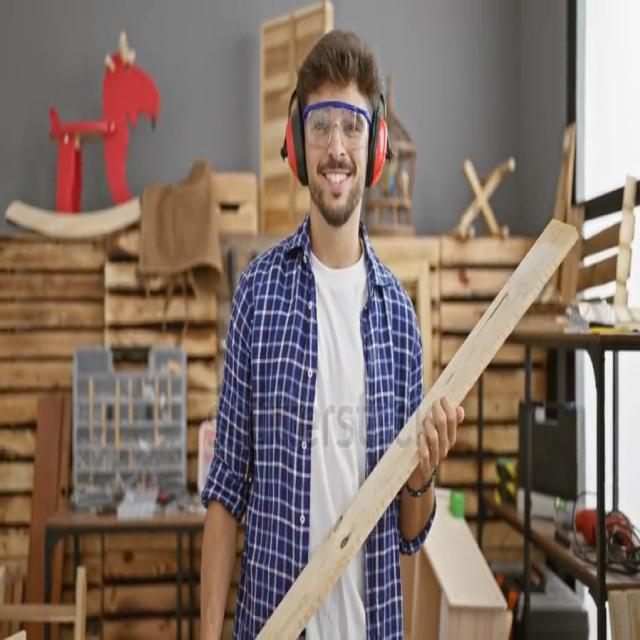Ear-Protection: (278, 94, 308, 182), (366, 102, 388, 188)
Glasses: (304, 100, 374, 147)
